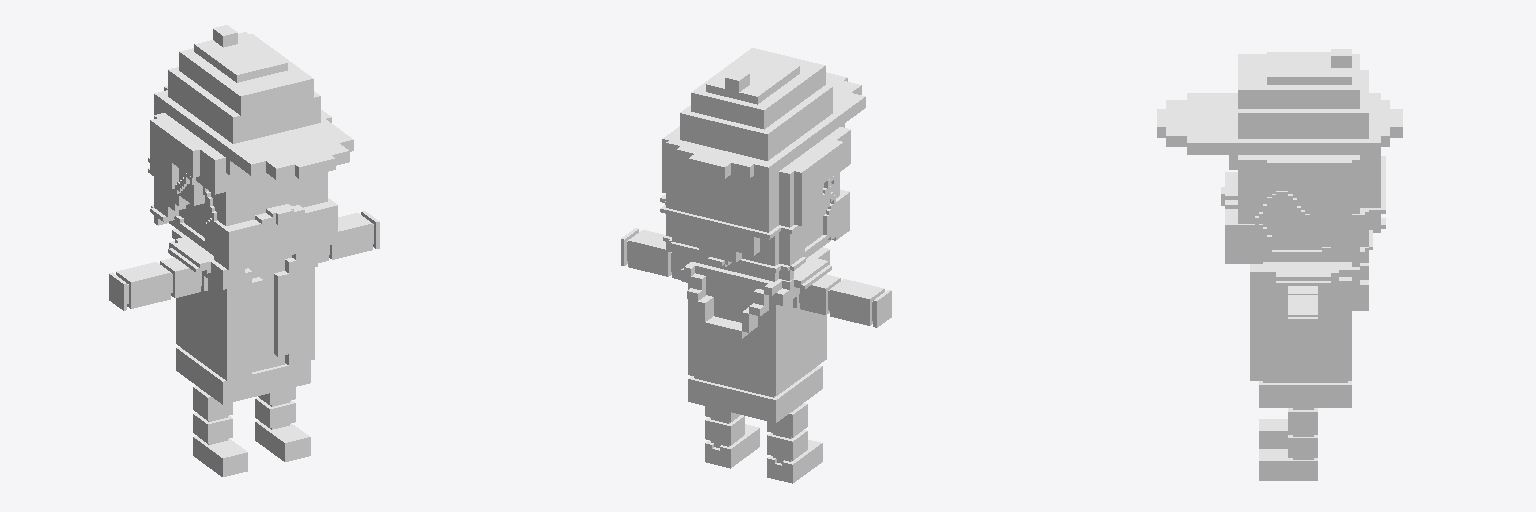
File: ConCubrebocas.obj
The picture shows the model from 3 angles: view 1: azimuth 30°, elevation 25°; view 2: azimuth 150°, elevation 25°; view 3: azimuth 270°, elevation 25°; orthographic projection.
Visible parts, largest first — view 1: object 1; view 2: object 1; view 3: object 1.
Part boxes in pixels (x1,y1,x2,y2): object 1: (109, 25, 379, 476); object 1: (621, 48, 891, 483); object 1: (1157, 49, 1402, 480).
Size of the model in its own units: 7 by 10.6 by 5.8.